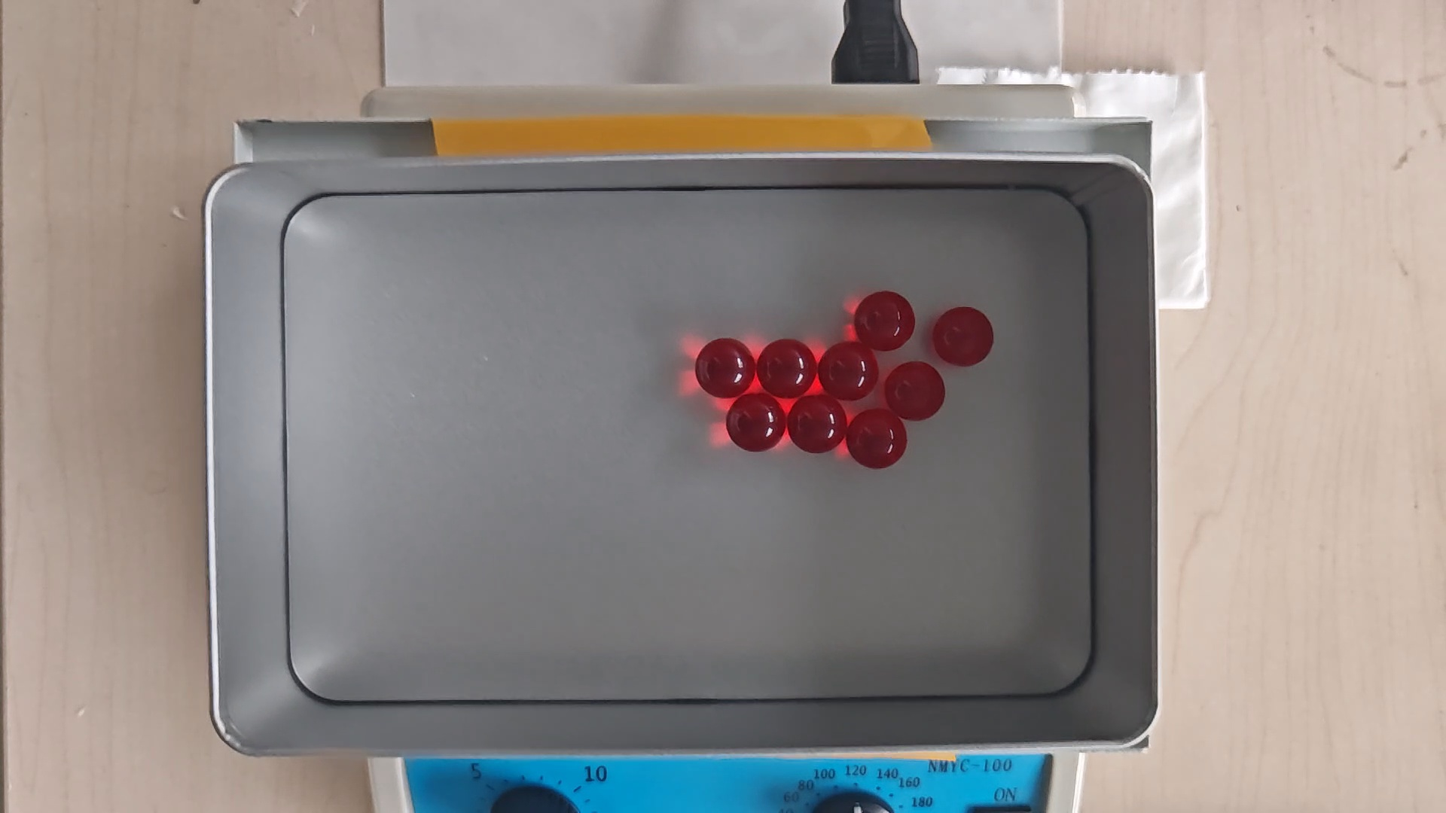ball: (932, 306, 995, 368), (855, 290, 916, 350), (726, 393, 787, 453), (886, 361, 946, 421), (848, 408, 907, 469), (696, 337, 755, 398), (819, 342, 880, 401), (788, 396, 847, 454), (758, 338, 815, 398)
container: (285, 187, 1092, 701)
